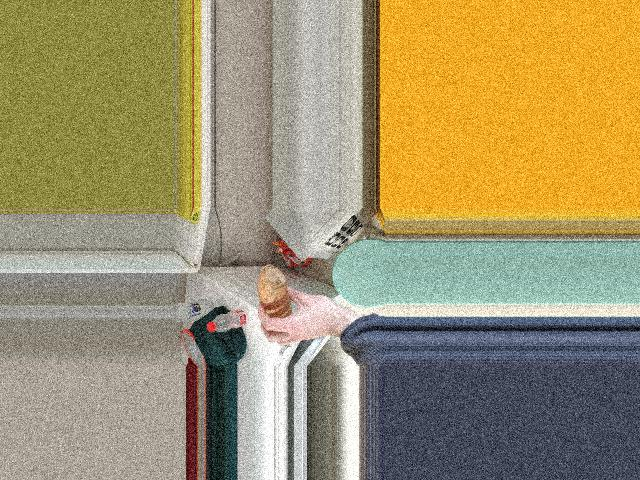sweet_potato: (255, 278, 299, 323)
